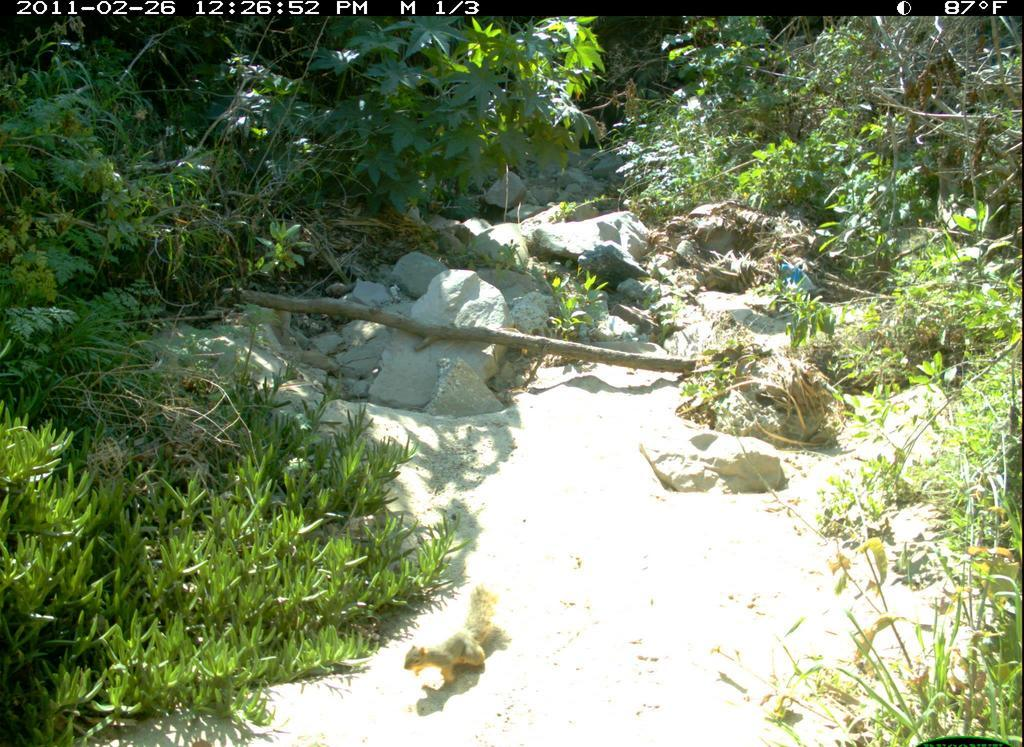squirrel: (400, 577, 523, 694)
